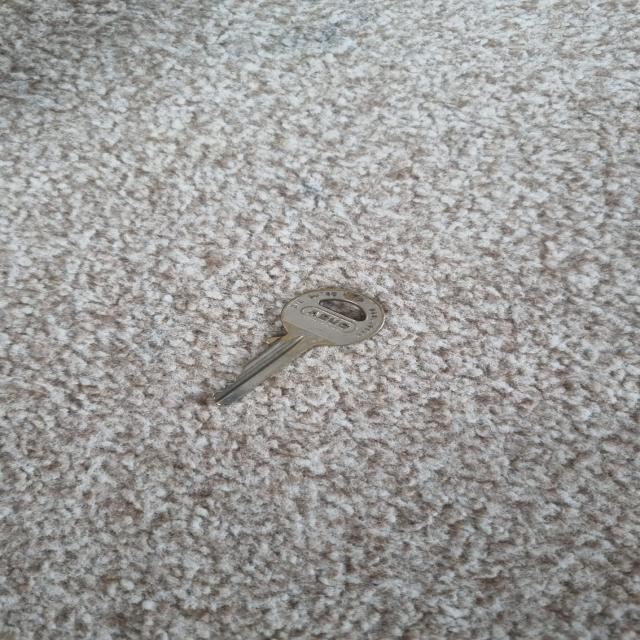Key: (216, 286, 385, 405)
